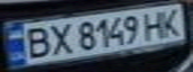1: (93, 16, 112, 48)
4: (106, 14, 127, 47)
8: (75, 18, 96, 52)
9: (121, 11, 145, 45)
B: (18, 24, 54, 61)
H: (139, 8, 172, 41)
K: (157, 6, 187, 37)
X: (45, 20, 75, 56)
